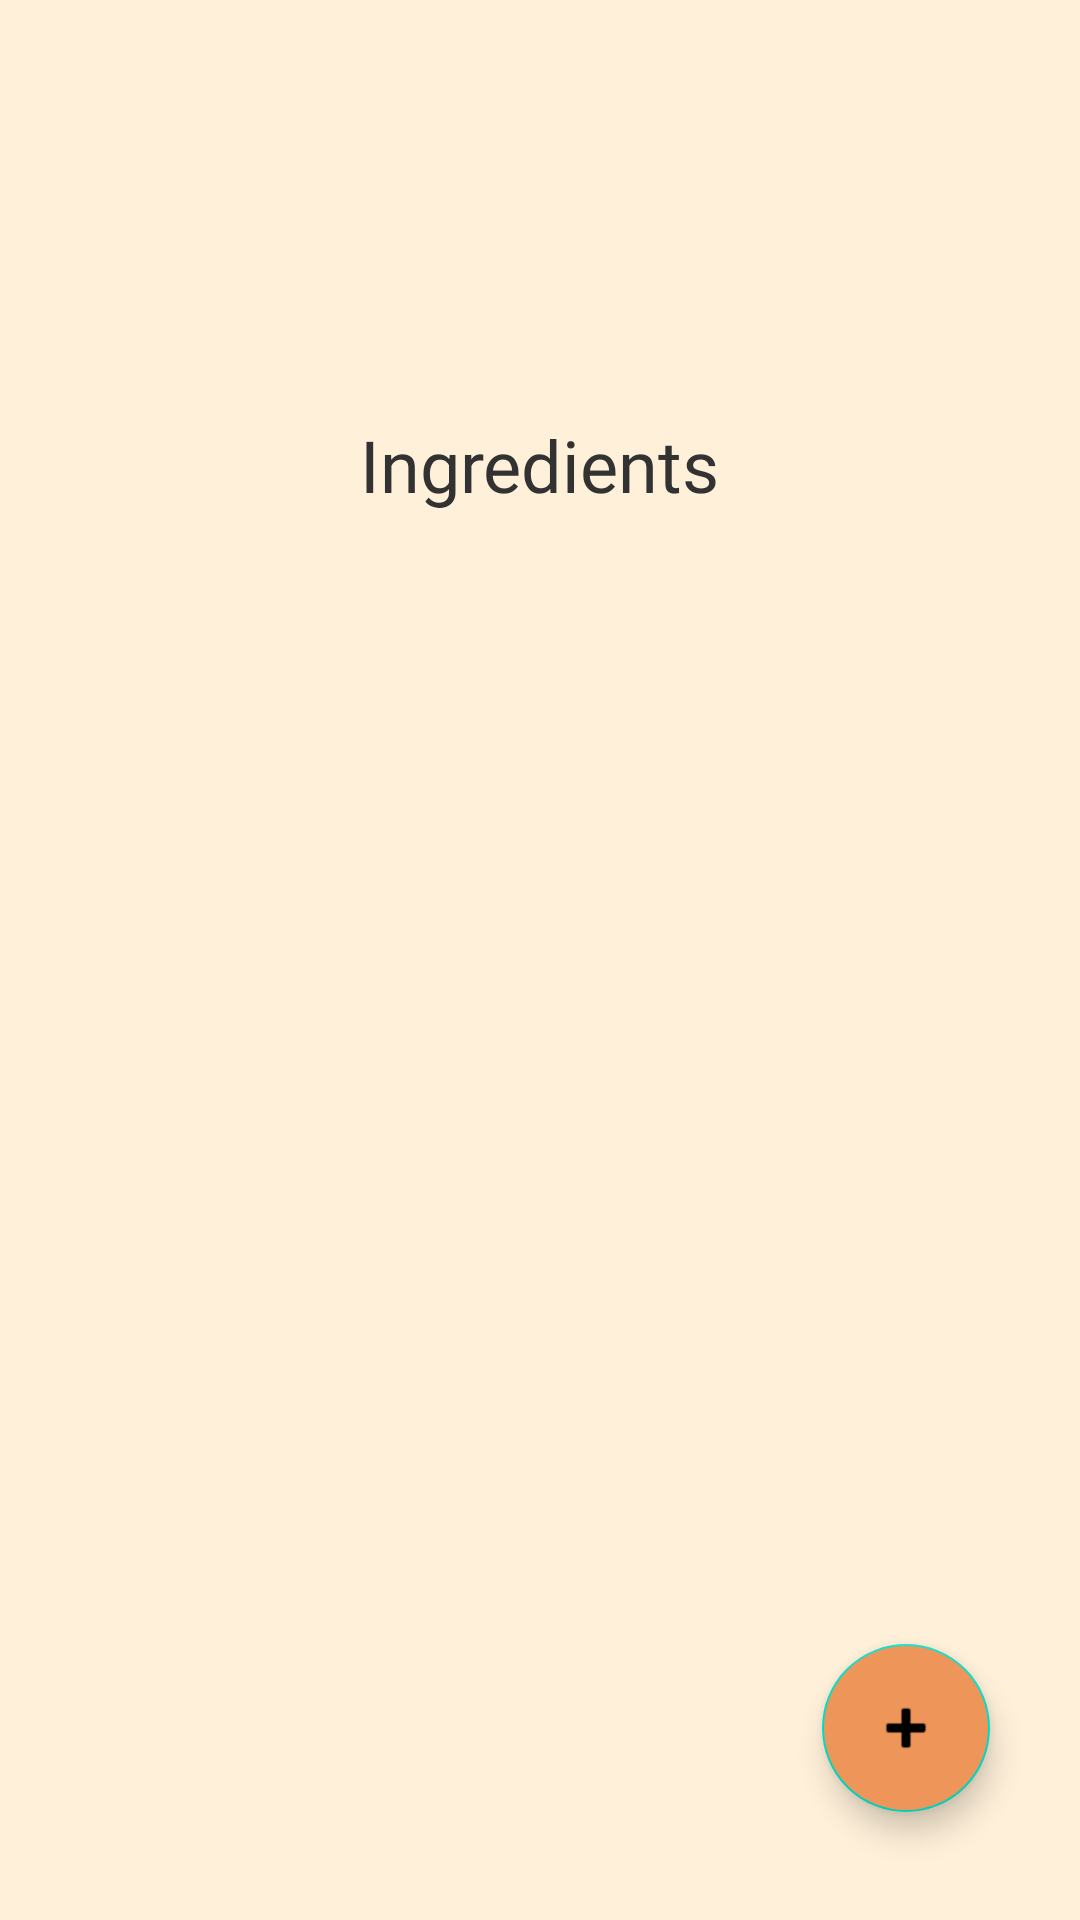

Named icons in this screenshot (1080 × 1920) and their bounding boxes, (x1, y1, x2, y2):
add: (822, 1644, 990, 1812)
